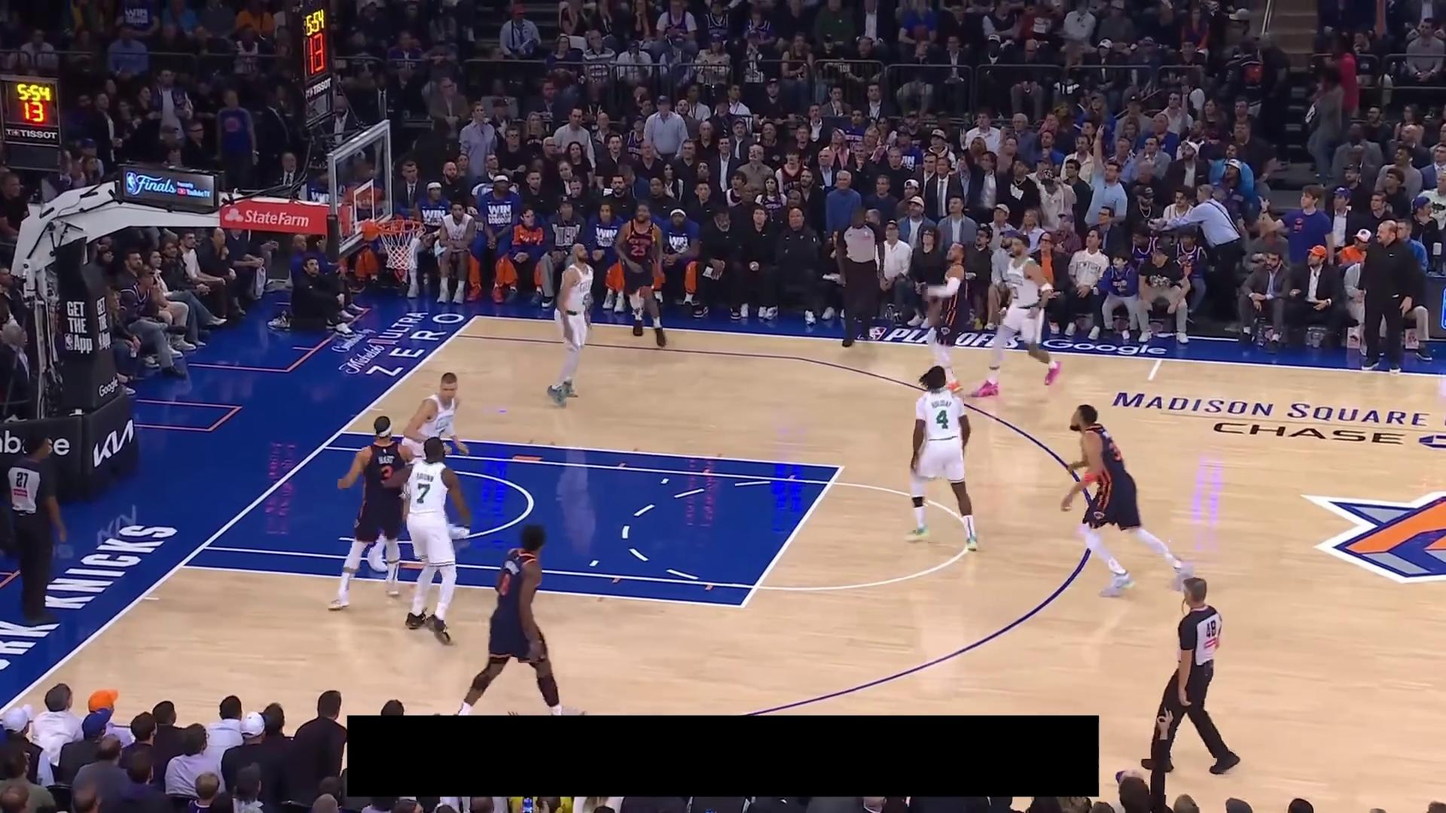number: (416, 482, 432, 504), (935, 409, 950, 430), (380, 464, 393, 484), (499, 574, 511, 595), (631, 243, 646, 257)
player: (1060, 402, 1196, 600), (454, 520, 589, 715), (367, 372, 469, 572), (1141, 576, 1241, 776), (383, 435, 473, 647), (327, 415, 415, 612), (972, 233, 1063, 398), (905, 364, 981, 553), (919, 241, 975, 395), (610, 201, 669, 347), (545, 242, 596, 408)
referee: (1141, 576, 1242, 775), (3, 434, 68, 627), (835, 204, 889, 349)
rim: (377, 218, 426, 234)
